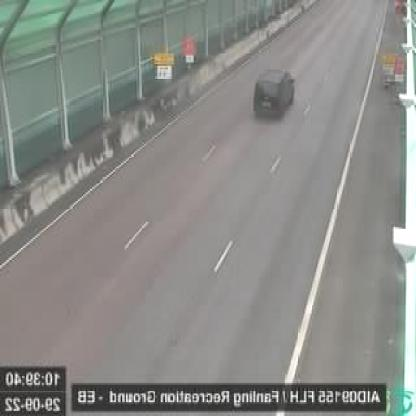Car: (248, 66, 302, 116)
